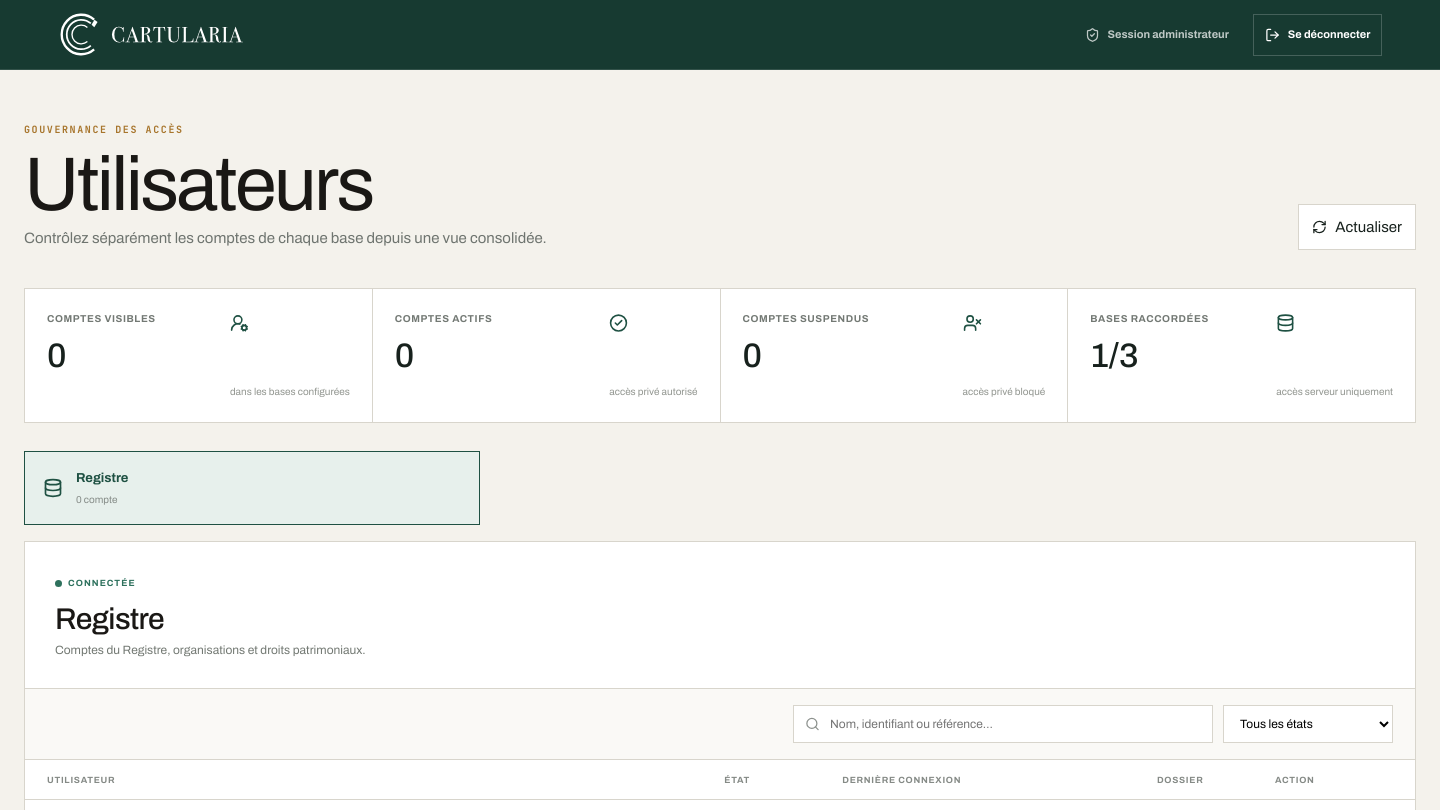
Test: administration sans rupture de session › signale un échec d’actualisation et ne présente pas les données anciennes comme à jour
The image size is (1440, 810).
Click the button "Actualiser": (1357, 227) [1298, 204, 1416, 250]
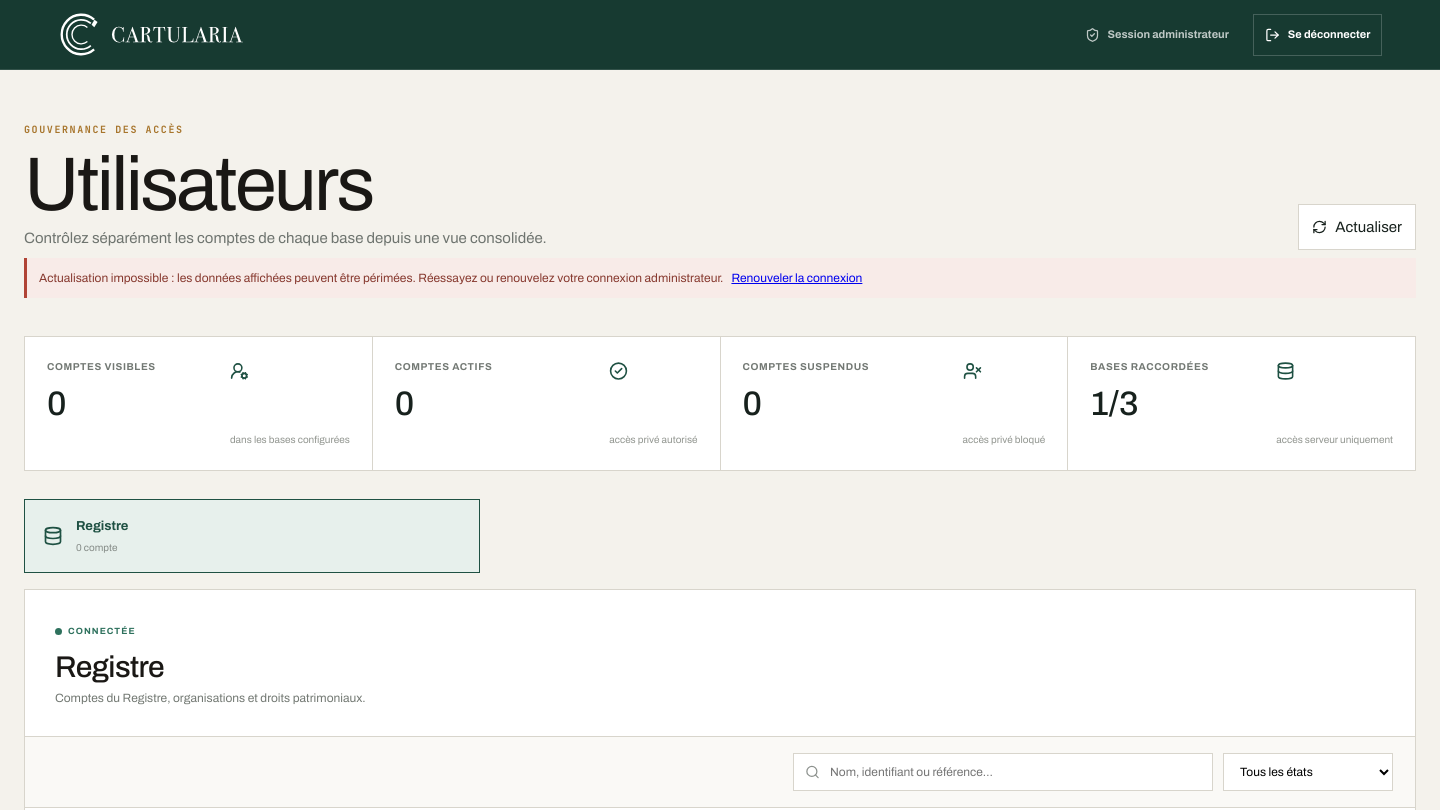
Result: the message shows "peuvent être périmées" at [39, 271, 723, 285]
Result: the link "Renouveler la connexion" is shown at [731, 269, 862, 287]
